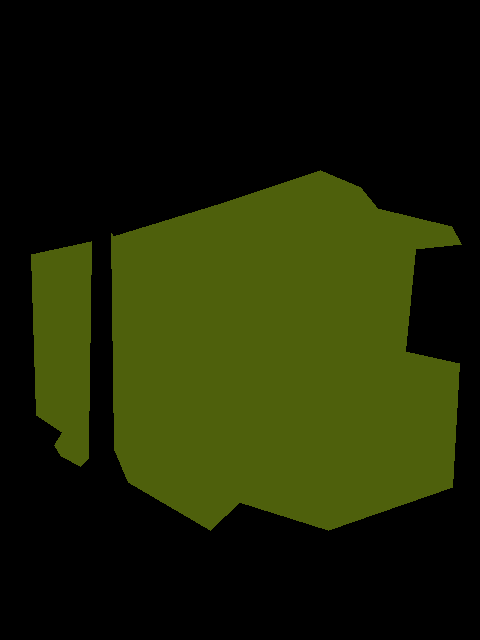Train: (31, 170, 462, 530)
